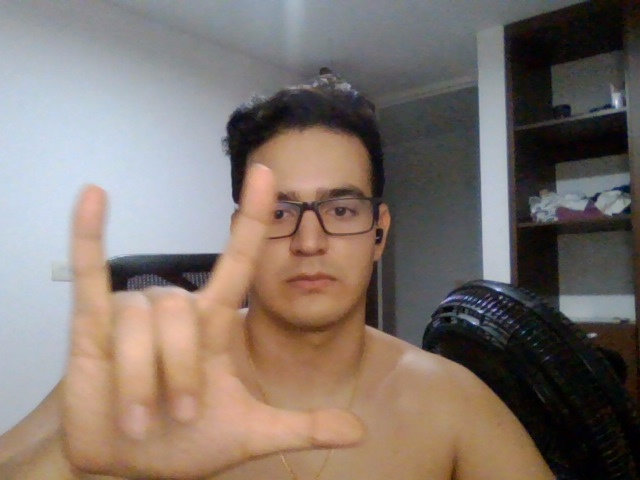YouRock: (41, 156, 368, 477)
